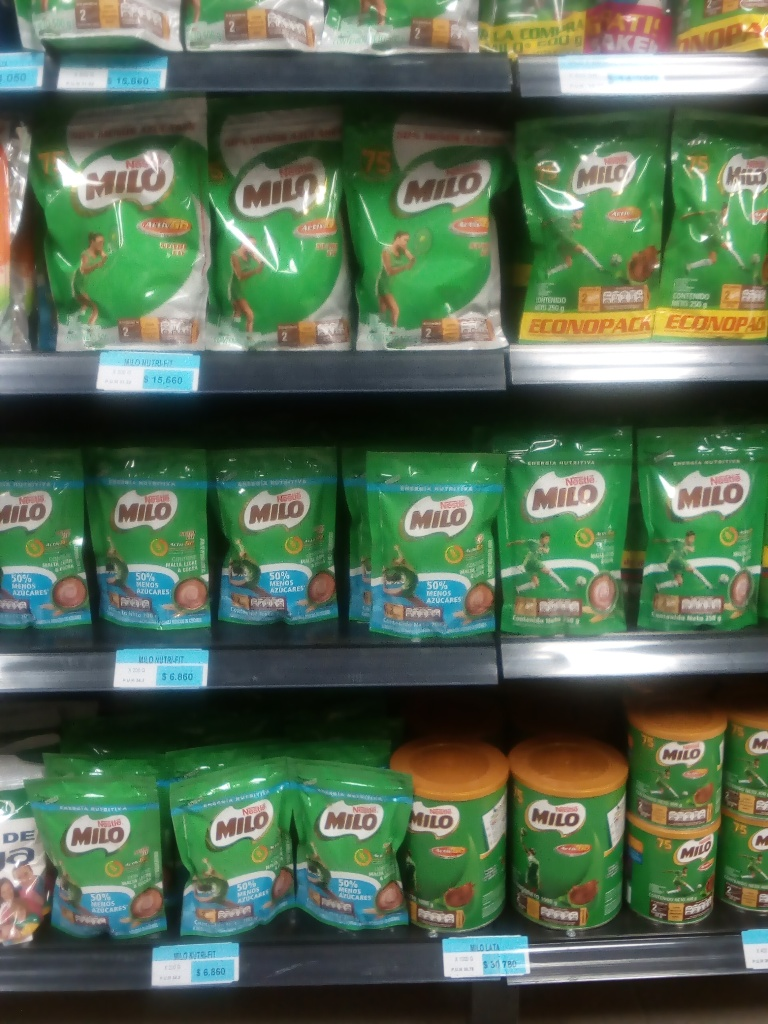COL0170203DYP25000: (489, 423, 631, 637)
COL0170203LAT40000: (634, 714, 721, 830)
COL0170205DYP20000: (82, 450, 215, 634)
COL0170205DYP50000: (35, 95, 217, 352)
